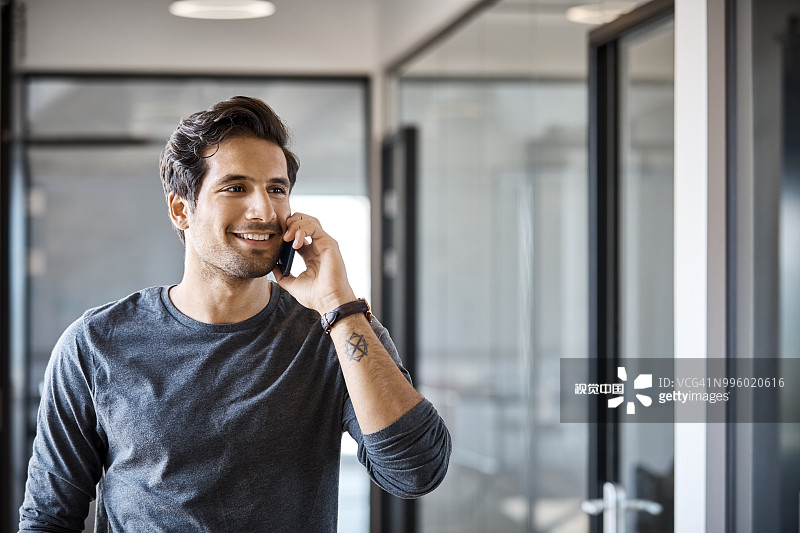calling: (255, 200, 381, 322)
